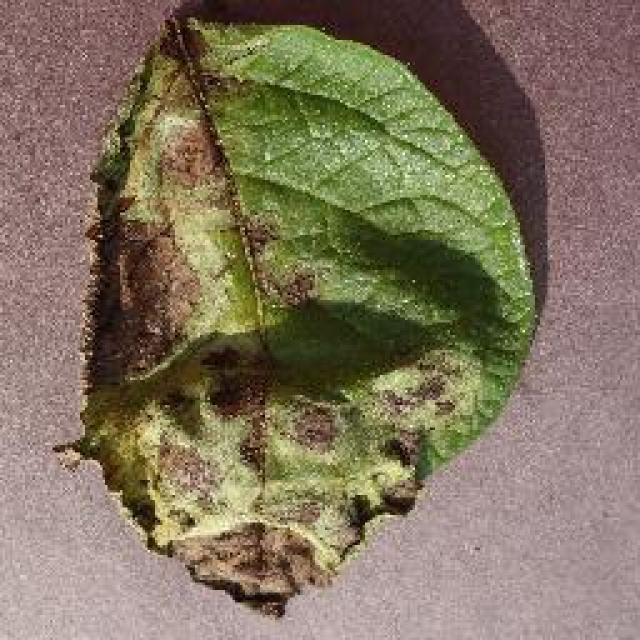Late_blight: (69, 5, 545, 619)
